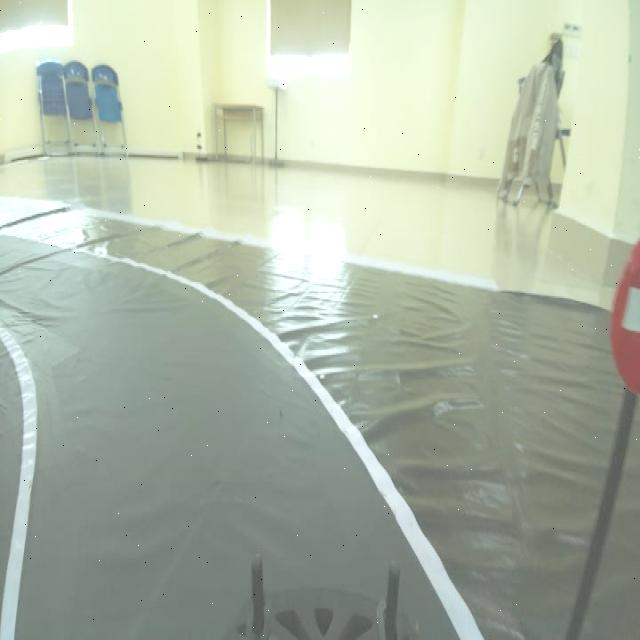no_entry: (612, 239, 640, 391)
